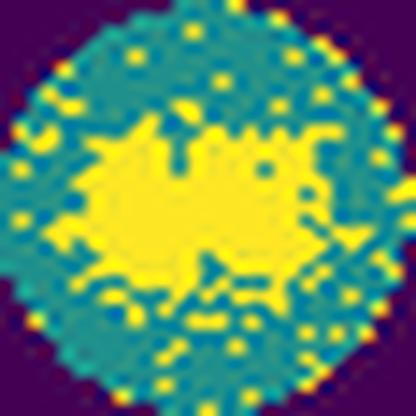Center: (40, 112, 350, 333)
